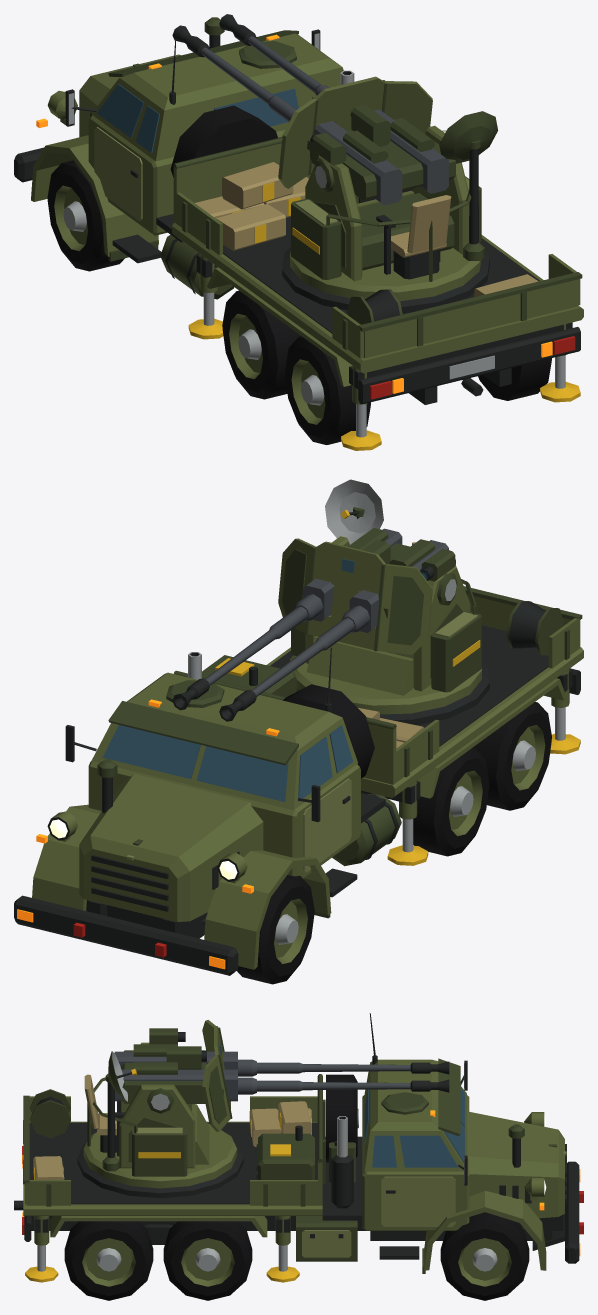
The model's file is flak.glb.
3 views of the same model, one above another, from view 1: azimuth 30°, elevation 25°; view 2: azimuth 150°, elevation 25°; view 3: azimuth 270°, elevation 25° (orthographic). The views are drawn at different scales.
Visible parts, largest first — view 1: chassis, cab, turret, gun_cradle, wheel_ml, wheel_rl, wheel_fl, radar, barrel_l, wheel_rr, barrel_r, glass_4 (+4 smaller); view 2: cab, chassis, turret, gun_cradle, wheel_ml, wheel_rl, wheel_fl, glass_0, glass_1, radar, barrel_l, barrel_r (+4 smaller); view 3: chassis, cab, turret, gun_cradle, wheel_fr, wheel_mr, wheel_rr, barrel_l, barrel_r, glass_2, outrigger_rr, outrigger_fr (+2 smaller).
Part boxes in pixels (x1,y1,x2,y2): chassis: [14, 70, 583, 404]; cab: [31, 17, 343, 263]; turret: [282, 125, 489, 313]; gun_cradle: [278, 76, 455, 205]; wheel_ml: [222, 290, 300, 399]; wheel_rl: [285, 336, 370, 444]; wheel_fl: [47, 160, 124, 271]; radar: [439, 111, 497, 163]; barrel_l: [172, 25, 296, 121]; wheel_rr: [478, 358, 551, 400]; barrel_r: [219, 14, 328, 95]; glass_4: [97, 84, 144, 137]; cab: [32, 647, 360, 969]; chassis: [14, 586, 583, 975]; turret: [290, 517, 489, 725]; gun_cradle: [278, 528, 455, 654]; wheel_ml: [413, 747, 489, 856]; wheel_rl: [473, 702, 551, 810]; wheel_fl: [237, 875, 314, 984]; glass_0: [196, 746, 288, 801]; glass_1: [103, 725, 200, 778]; radar: [325, 479, 383, 544]; barrel_l: [219, 618, 354, 721]; barrel_r: [172, 606, 307, 710]; chassis: [14, 1074, 583, 1263]; cab: [362, 1013, 566, 1273]; turret: [77, 1028, 243, 1198]; gun_cradle: [114, 1020, 256, 1131]; wheel_fr: [440, 1212, 529, 1300]; wheel_mr: [163, 1221, 252, 1300]; wheel_rr: [64, 1221, 153, 1300]; barrel_l: [257, 1061, 449, 1074]; barrel_r: [257, 1079, 449, 1092]; glass_2: [399, 1135, 458, 1167]; outrigger_rr: [25, 1216, 58, 1282]; outrigger_fr: [266, 1216, 299, 1282].
Size of the model in its own units: 2.92 by 3.17 by 7.2.
